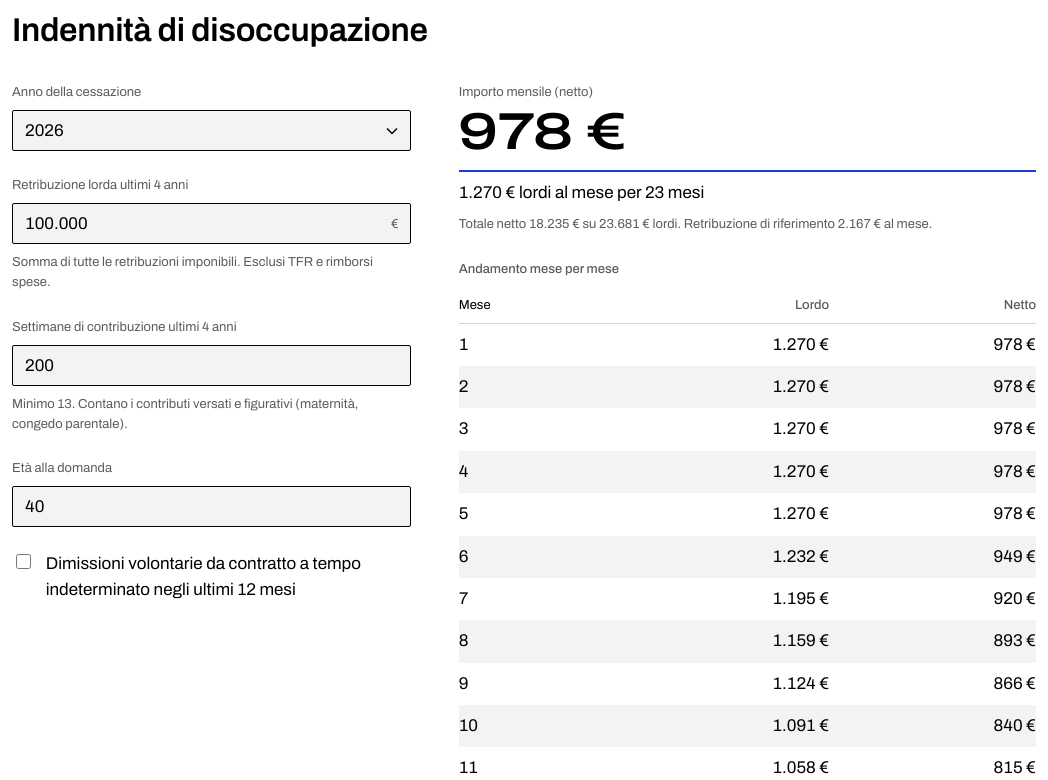
Test: NaspiPage › reveals the after-resignation field when toggling voluntary resignation
Click the checkbox labelled "Dimissioni volontarie" at (23,562), box [16,554,31,569]
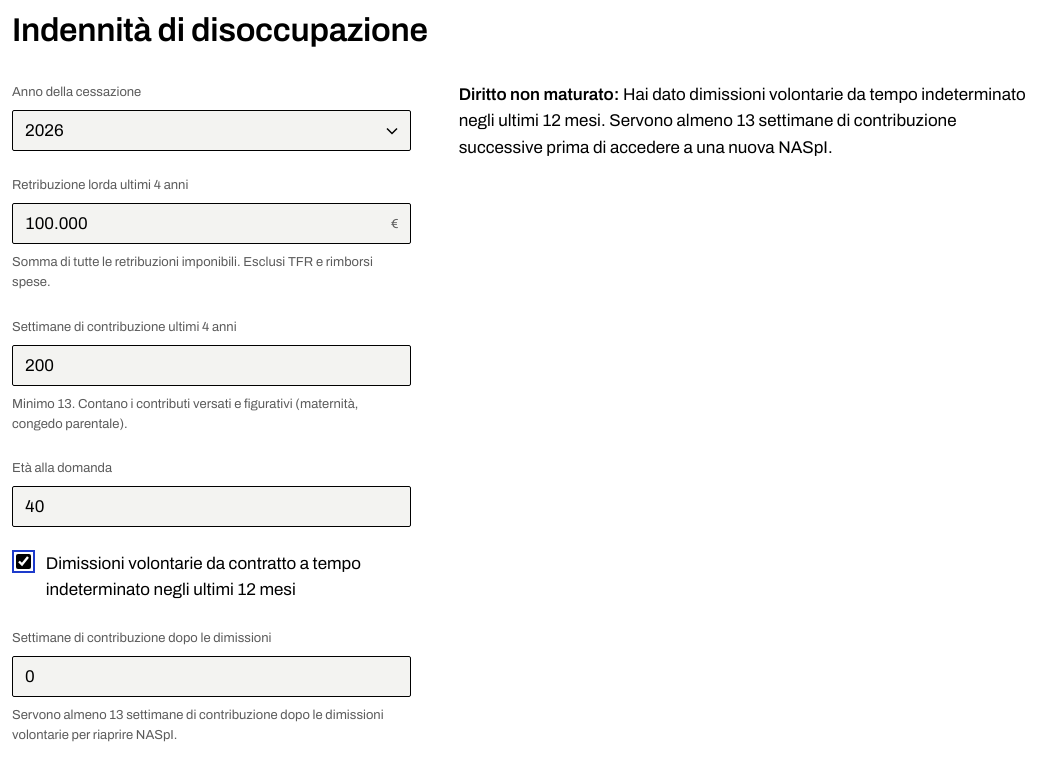
Expected: the number field labelled "Settimane di contribuzione dopo le dimissioni" is shown, [12,656,411,697]
